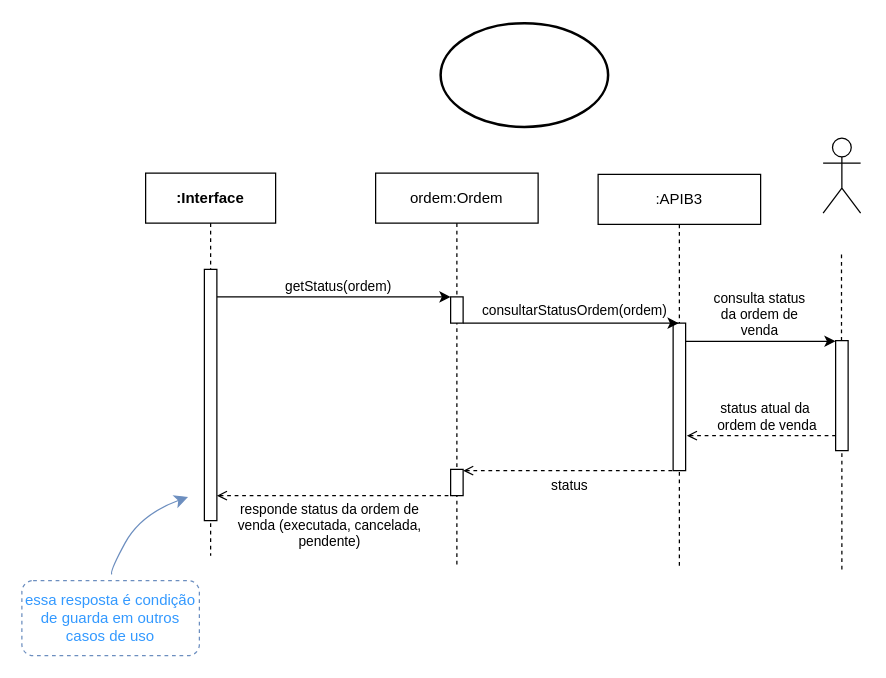
Some shapes in this 886 by 678 pixel diagram are drawn without their labels. Here are the shapes that lost their labels. From the top down, the box of each, then its label:
(439, 21, 609, 128): UC-17 Consultar status da ordem de venda
(822, 137, 861, 213): API B3
